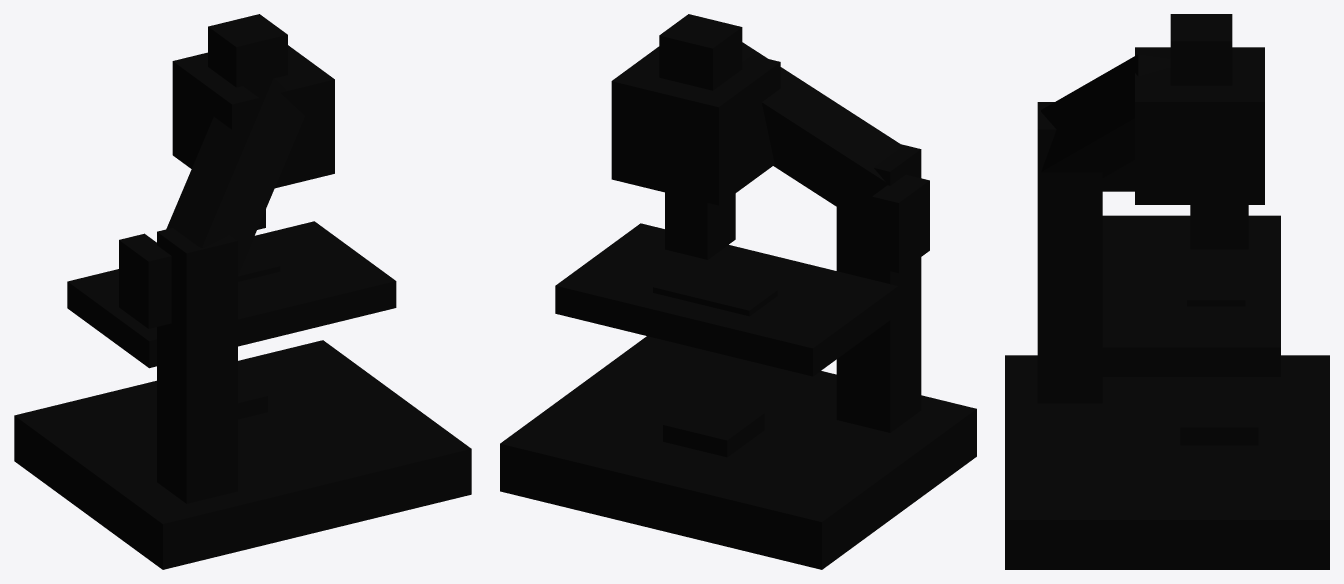
File: lab_microscope.obj
3 views of the same model, side by side, from view 1: azimuth 30°, elevation 25°; view 2: azimuth 150°, elevation 25°; view 3: azimuth 270°, elevation 25° (orthographic). The views are drawn at different scales.
Size of the model in its own units: 0.75 by 1 by 0.625.
